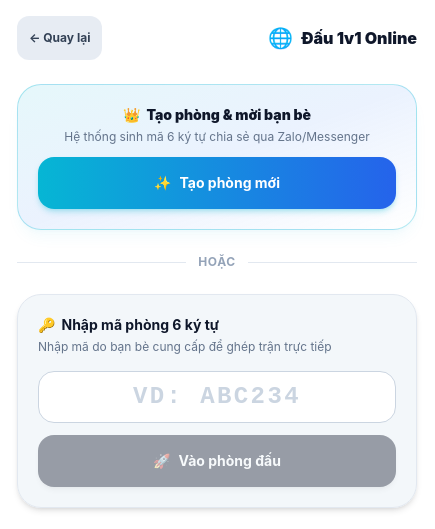
Test: OnlineLobby Component Tests (P3.3b) › 3. Nhập mã phòng: tự động viết hoa và mở khóa nút Vào phòng khi đủ 6 ký tự
In the field with test id "room-code-input": (217, 397) [38, 371, 396, 423], type "abc"
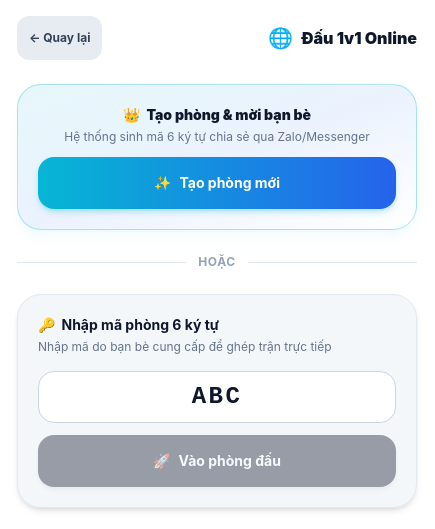
expect the button with test id "join-room-btn" is disabled: met, box [38, 435, 396, 487]
# Nhập đủ 6 ký tự
Replace the text in the field with test id "room-code-input" with "abc234": (217, 397) [38, 371, 396, 423]
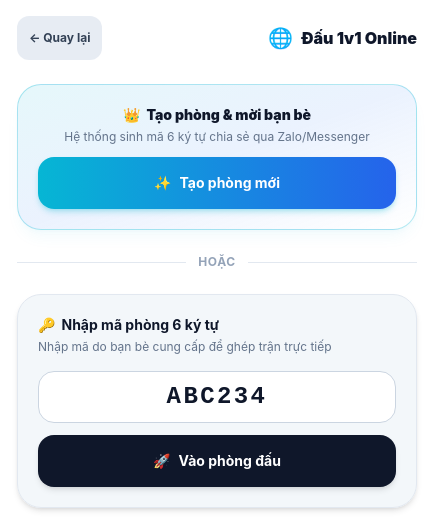
expect the button with test id "join-room-btn" is enabled: met, box [38, 435, 396, 487]
